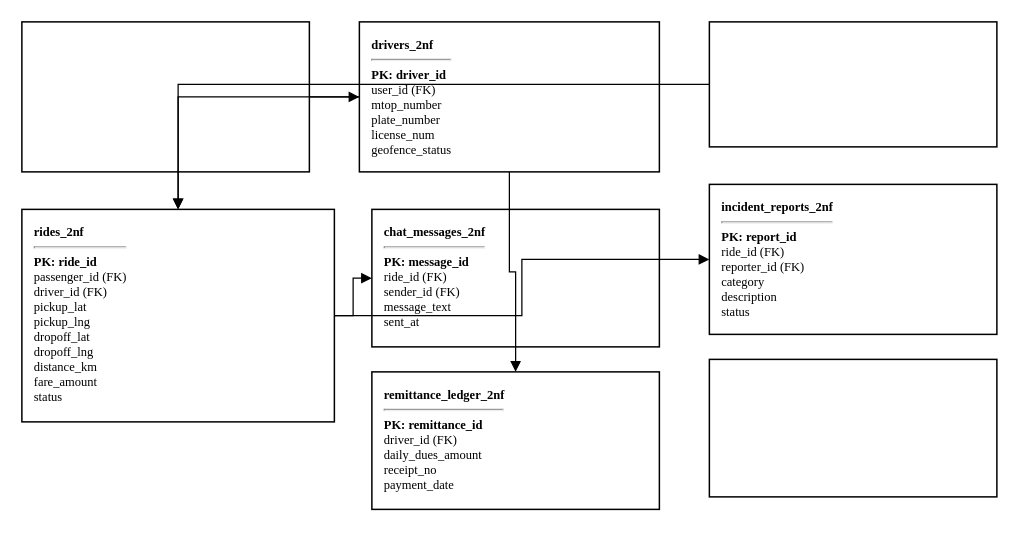
The diagram is 1020 pixels wide and 533 high, and some of its shapes have lost their labels. The centre of each missing label's shape, as x and y in pixels:
"audit_logs_2nf PK: log_id user_id (FK) action_type ip_address timestamp" goes at point (852, 427).
"tariffs_2nf PK: tariff_id base_fare per_km_rate effective_date" goes at point (852, 83).
"users_2nf PK: user_id full_name email phone role_name created_at" goes at point (165, 96).
